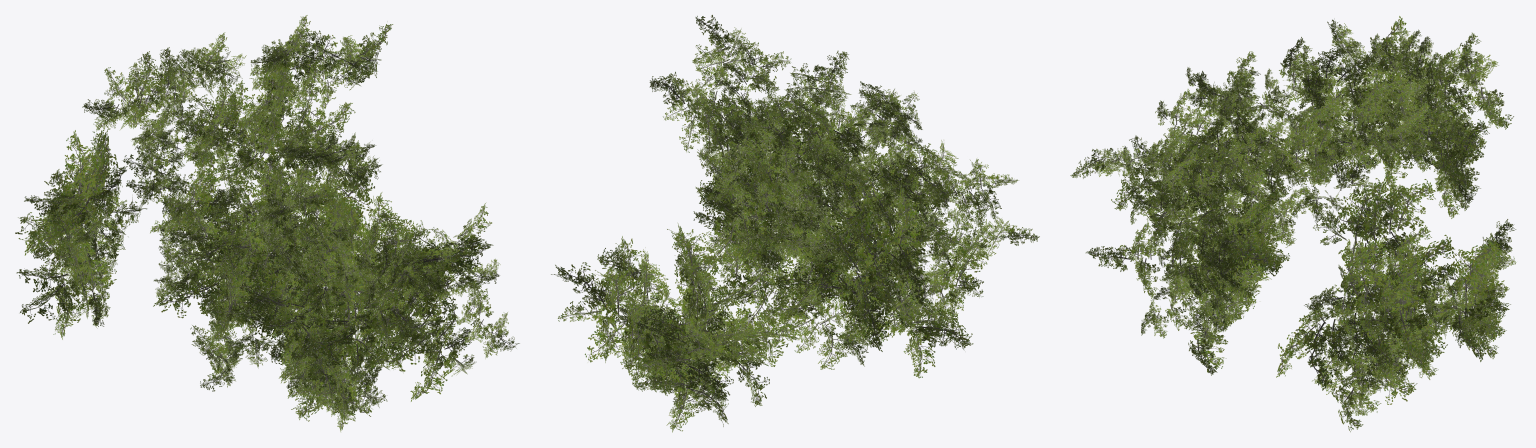
The model's file is spring.glb.
3 views of the same model, side by side, from view 1: azimuth 30°, elevation 25°; view 2: azimuth 150°, elevation 25°; view 3: azimuth 270°, elevation 25° (orthographic). The views are drawn at different scales.
Parts seen in each view (by area): view 1: Large_oak_tree_002_LOD0.001_Cluster_Mat Spring EX_0; view 2: Large_oak_tree_002_LOD0.001_Cluster_Mat Spring EX_0; view 3: Large_oak_tree_002_LOD0.001_Cluster_Mat Spring EX_0.
Part boxes in pixels (box(x1,y1,x2,y2)): Large_oak_tree_002_LOD0.001_Cluster_Mat Spring EX_0: box(15, 15, 519, 431); Large_oak_tree_002_LOD0.001_Cluster_Mat Spring EX_0: box(551, 15, 1039, 432); Large_oak_tree_002_LOD0.001_Cluster_Mat Spring EX_0: box(1070, 16, 1516, 431).
Size of the model in its own units: 24.51 by 22.78 by 24.98.
Materials: 1 (1 with a texture image).
